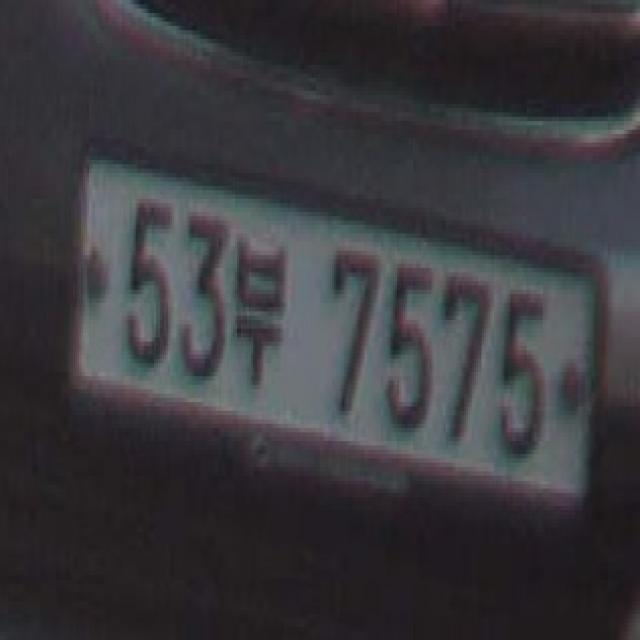3: (172, 212, 239, 402)
5: (120, 173, 176, 381), (498, 298, 561, 467), (385, 251, 437, 445)
7: (318, 238, 379, 428), (438, 264, 492, 454)
bu: (233, 225, 288, 398)
license_plate: (73, 147, 603, 554)
